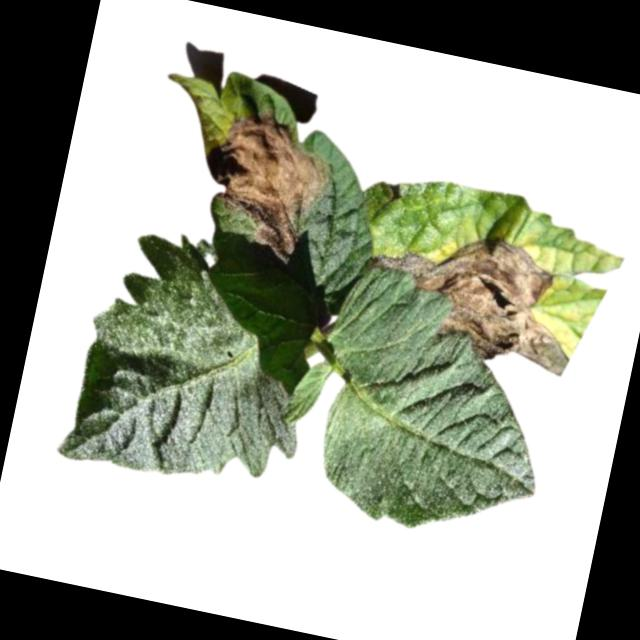Late_blight: (353, 210, 591, 380), (189, 96, 342, 262)
